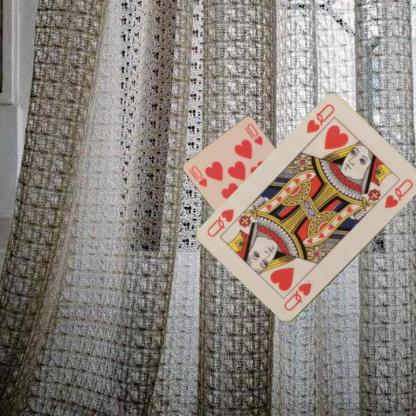10h: (186, 163, 209, 188)
Qh: (303, 101, 336, 135), (281, 280, 313, 313)
